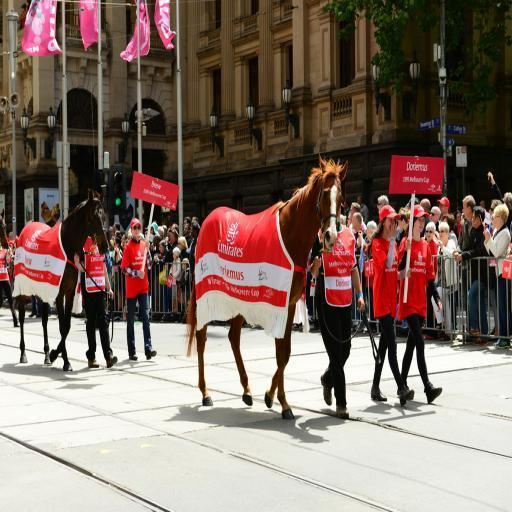horse: (182, 152, 350, 420), (12, 186, 110, 372)
